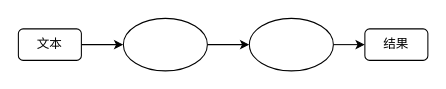
This 446x89 diagram has some shape labels left out. The shapes that lost their labels are listed below. From the top down, each one's centre as x and y in pixels, then its label:
At [164,44]: "文本表示".
At [290,44]: "分类器".
